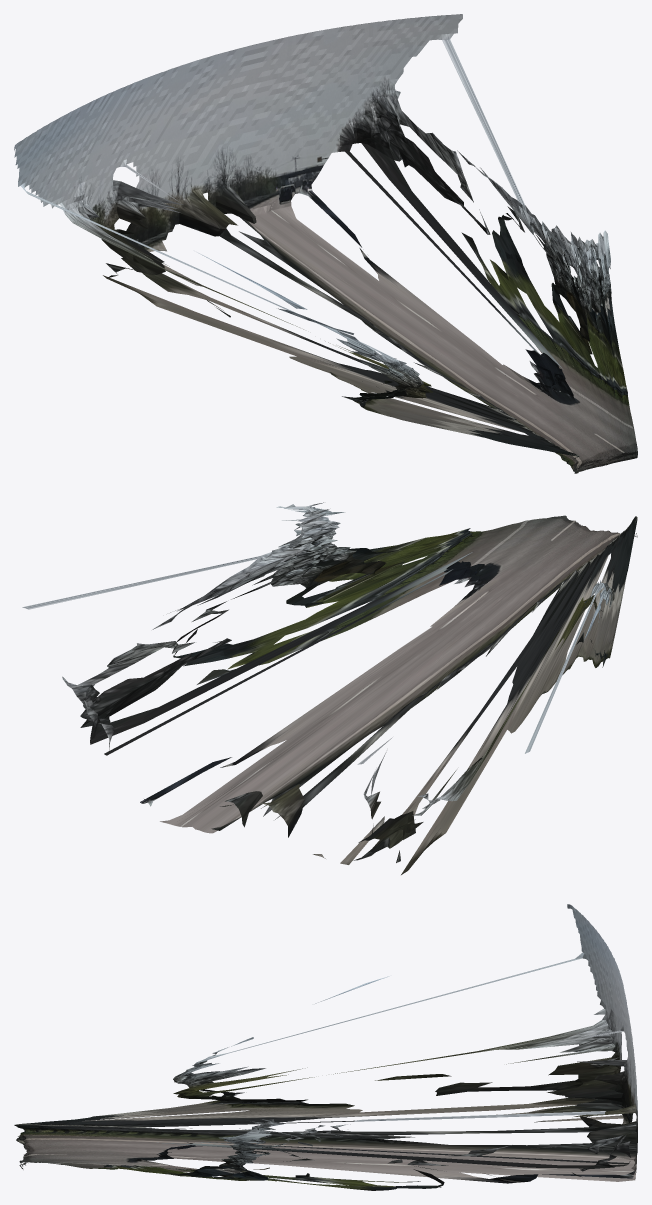
The picture shows the model from 3 angles, top to bottom: view 1: azimuth 30°, elevation 25°; view 2: azimuth 150°, elevation 25°; view 3: azimuth 270°, elevation 25°; orthographic projection. The views are drawn at different scales.
Parts seen in each view (by area): view 1: defaultobject; view 2: defaultobject; view 3: defaultobject.
Part boxes in pixels (x1,y1,x2,y2): defaultobject: [14, 14, 637, 473]; defaultobject: [22, 502, 637, 874]; defaultobject: [14, 904, 637, 1190].
Size of the model in its own units: 33.64 by 12.72 by 44.87.
1 material, 1 textured.
